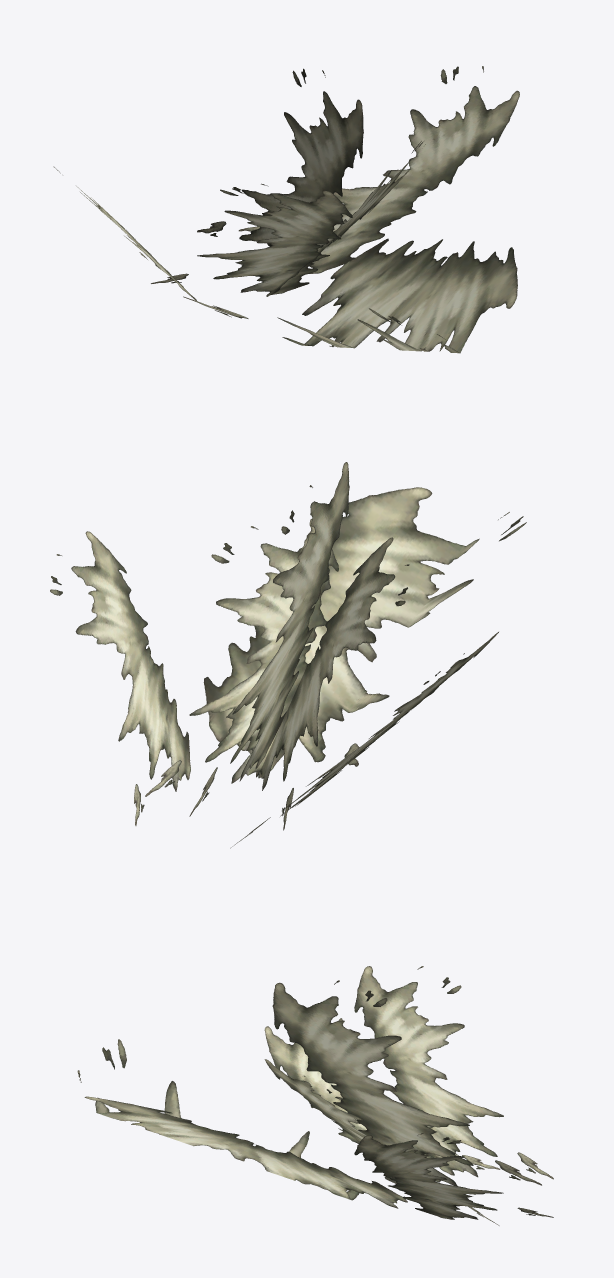
Rendered from shockwave02.fbx.
The picture shows the model from 3 angles, top to bottom: view 1: azimuth 30°, elevation 25°; view 2: azimuth 150°, elevation 25°; view 3: azimuth 270°, elevation 25°; orthographic projection. The views are drawn at different scales.
Visible parts, largest first — view 1: shockwave02; view 2: shockwave02; view 3: shockwave02.
Part boxes in pixels (x1,y1,x2,y2): shockwave02: (53,66,519,353); shockwave02: (50,462,526,848); shockwave02: (77,966,553,1225).
Bounding box in the file's own units: 4.3 × 3.05 × 5.47.
